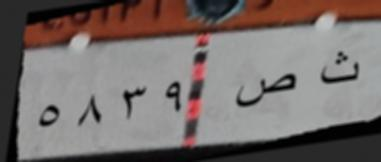3: (114, 76, 150, 132)
5: (32, 92, 64, 136)
8: (70, 85, 108, 134)
9: (157, 73, 188, 117)
saad: (231, 65, 302, 113)
thaa: (319, 45, 362, 99)
